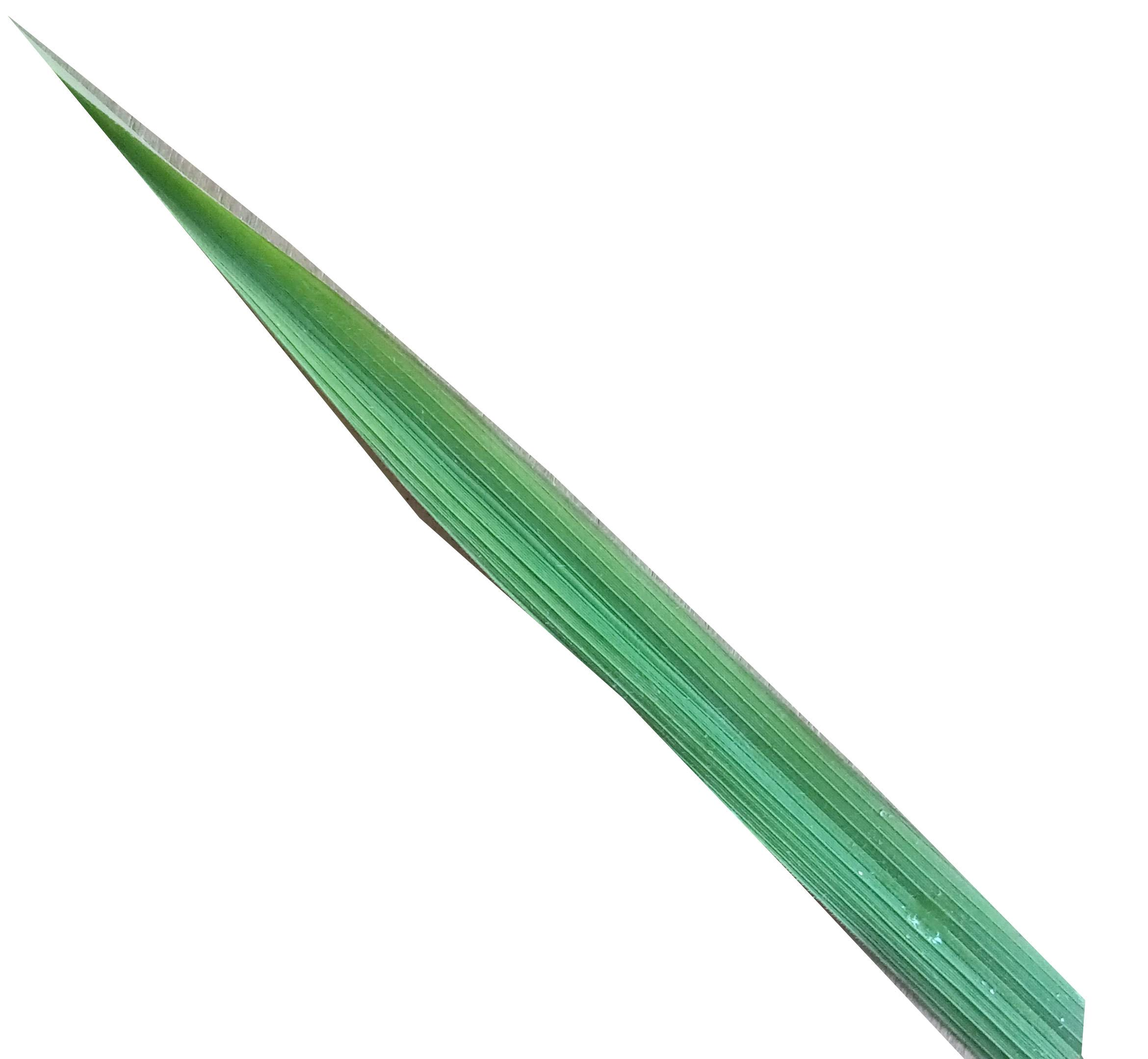Healthy: (12, 23, 1088, 1059)
